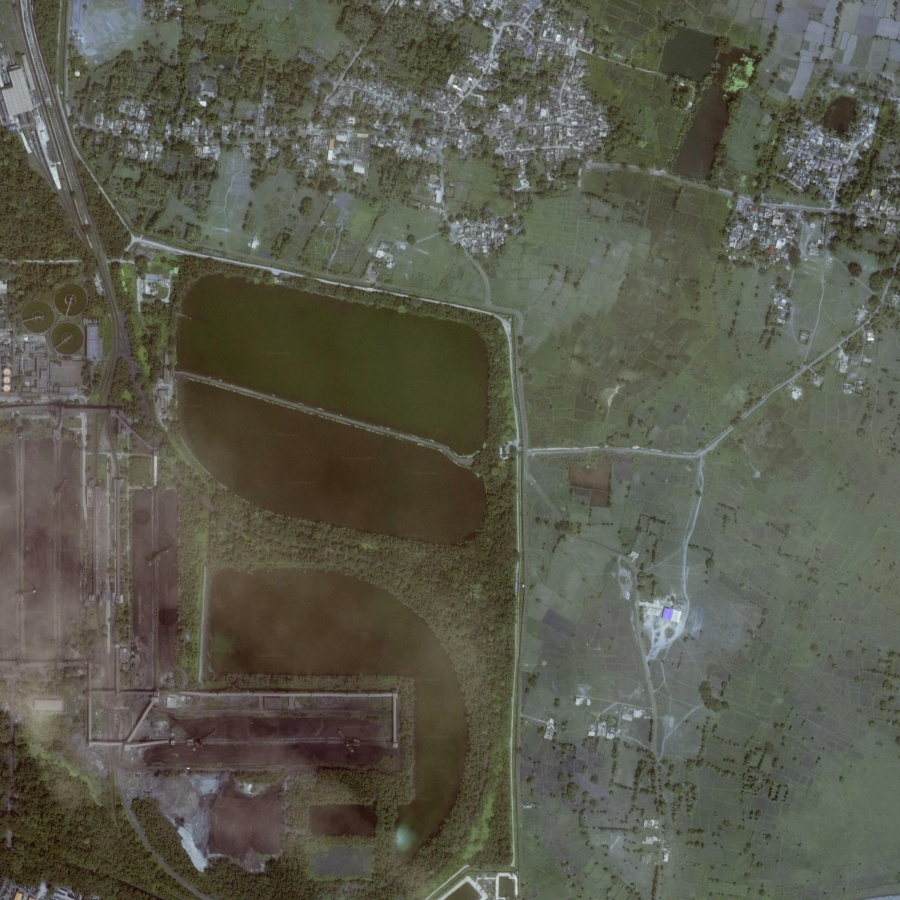PowerPlant: (124, 691, 408, 877)
